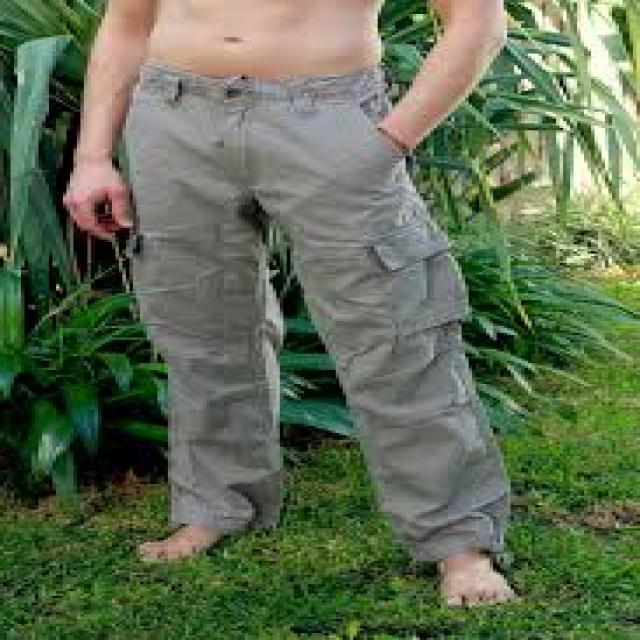pants: (115, 56, 518, 557)
